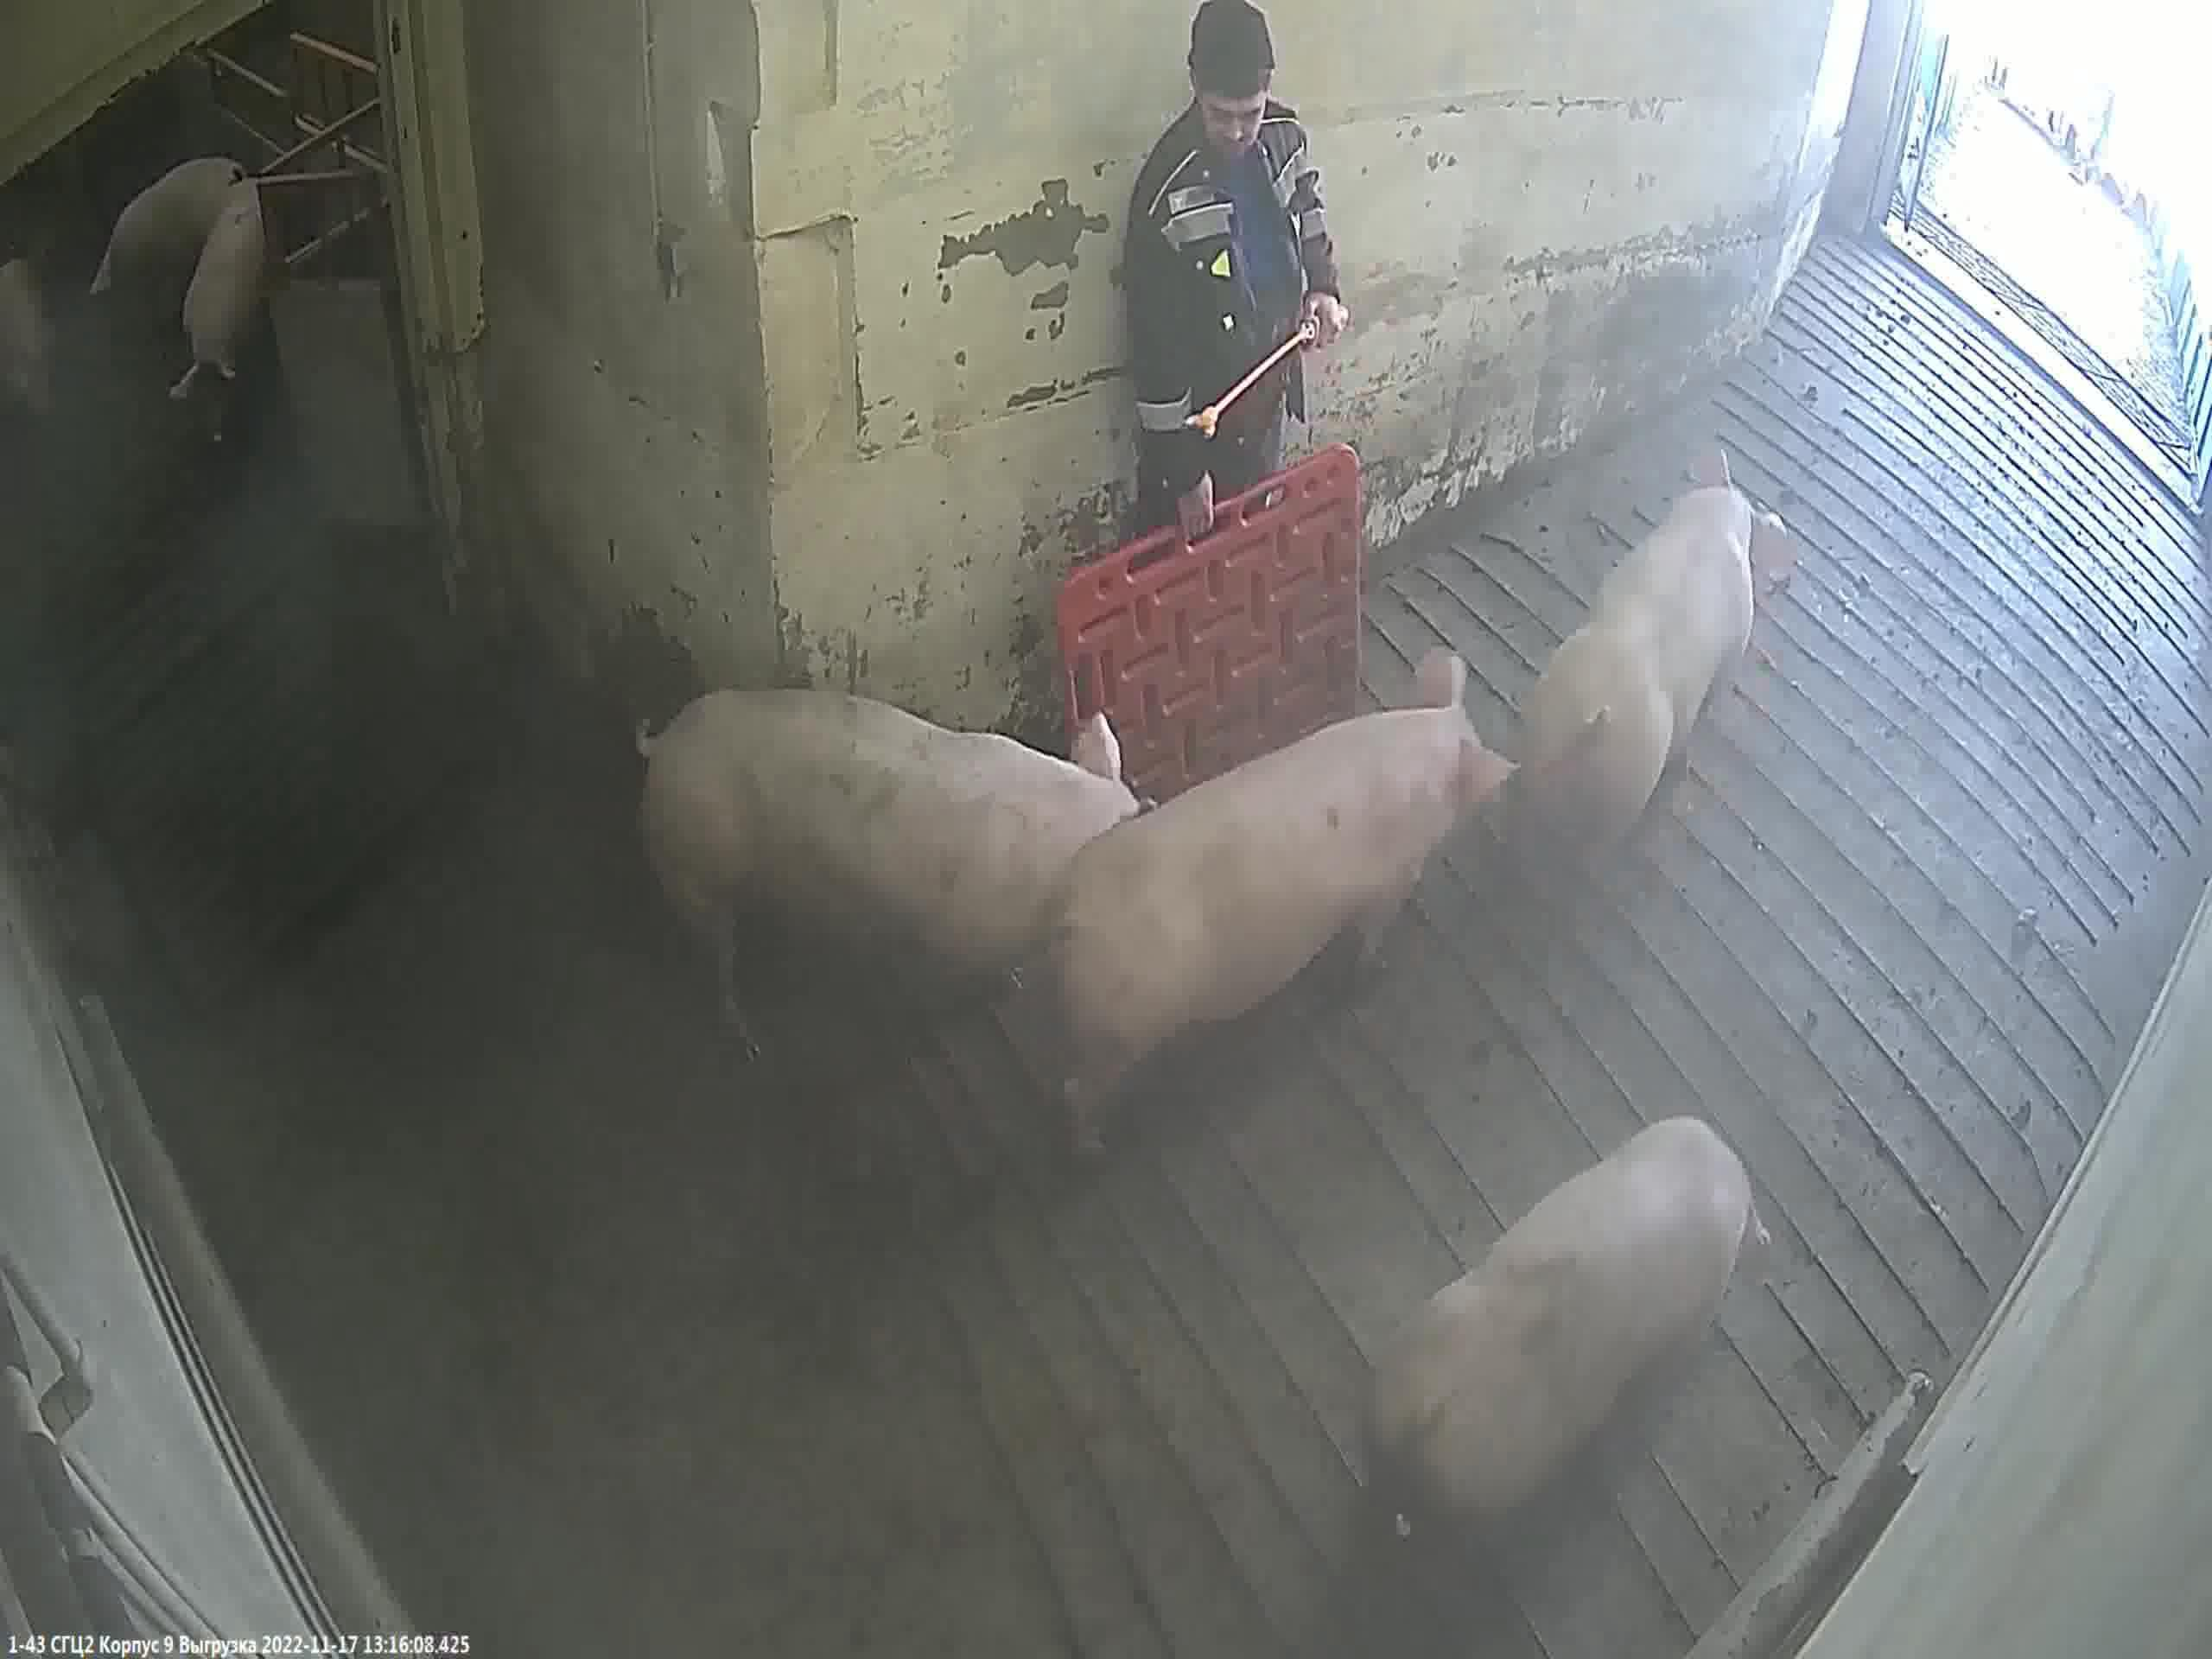Pigs: (1050, 650, 1519, 1134), (1371, 1117, 1764, 1589), (639, 690, 1141, 1037), (1508, 453, 1792, 901), (165, 181, 272, 443), (91, 159, 242, 296), (0, 261, 56, 410)
